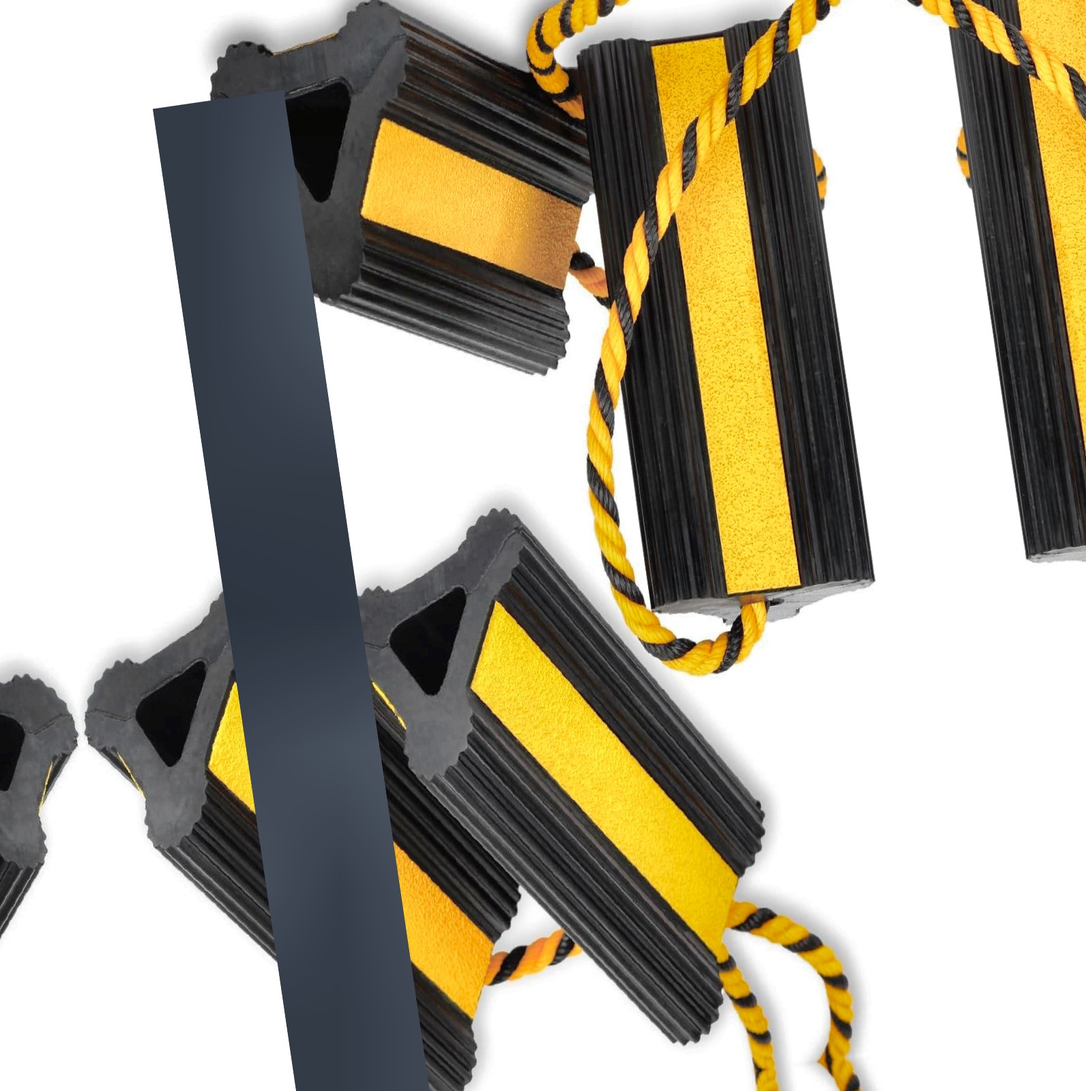chock: (315, 466, 797, 1088), (63, 529, 551, 1091), (566, 11, 892, 641), (198, 0, 629, 423), (931, 0, 1086, 588)
